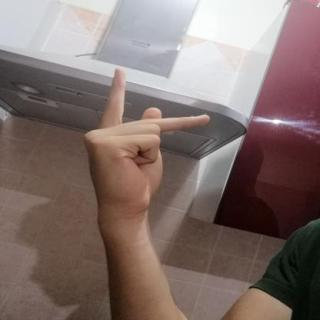DHAA: (76, 61, 220, 223)
